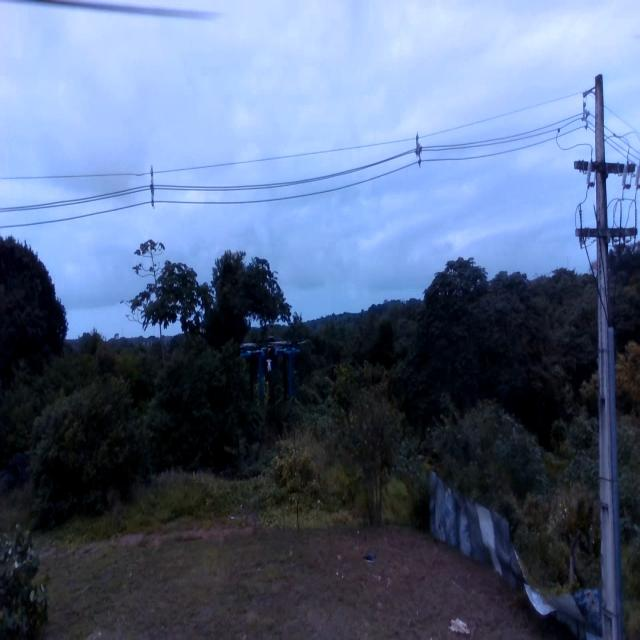-uav-: (233, 317, 319, 407)
